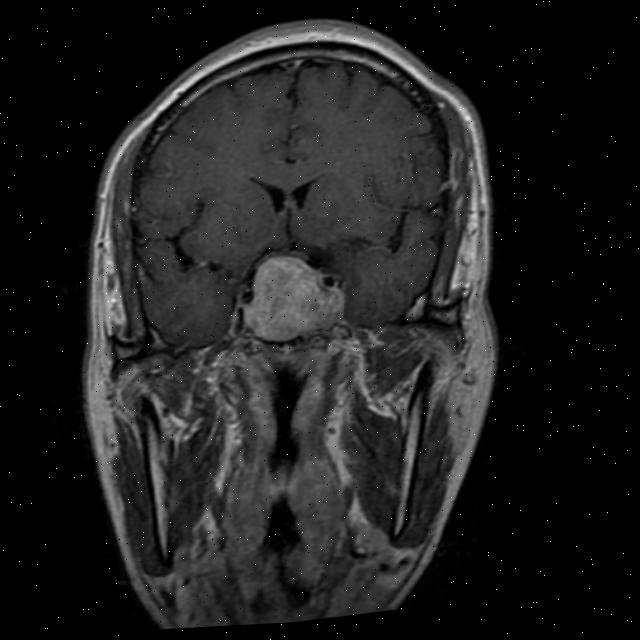Pituitary: (238, 247, 333, 346)
